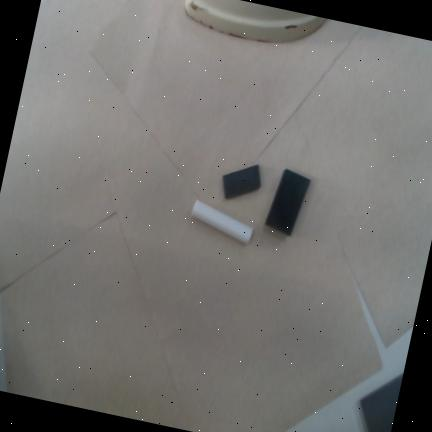Cilindro: (191, 199, 253, 244)
Paralelepipedo: (264, 169, 311, 237), (222, 164, 261, 199)
